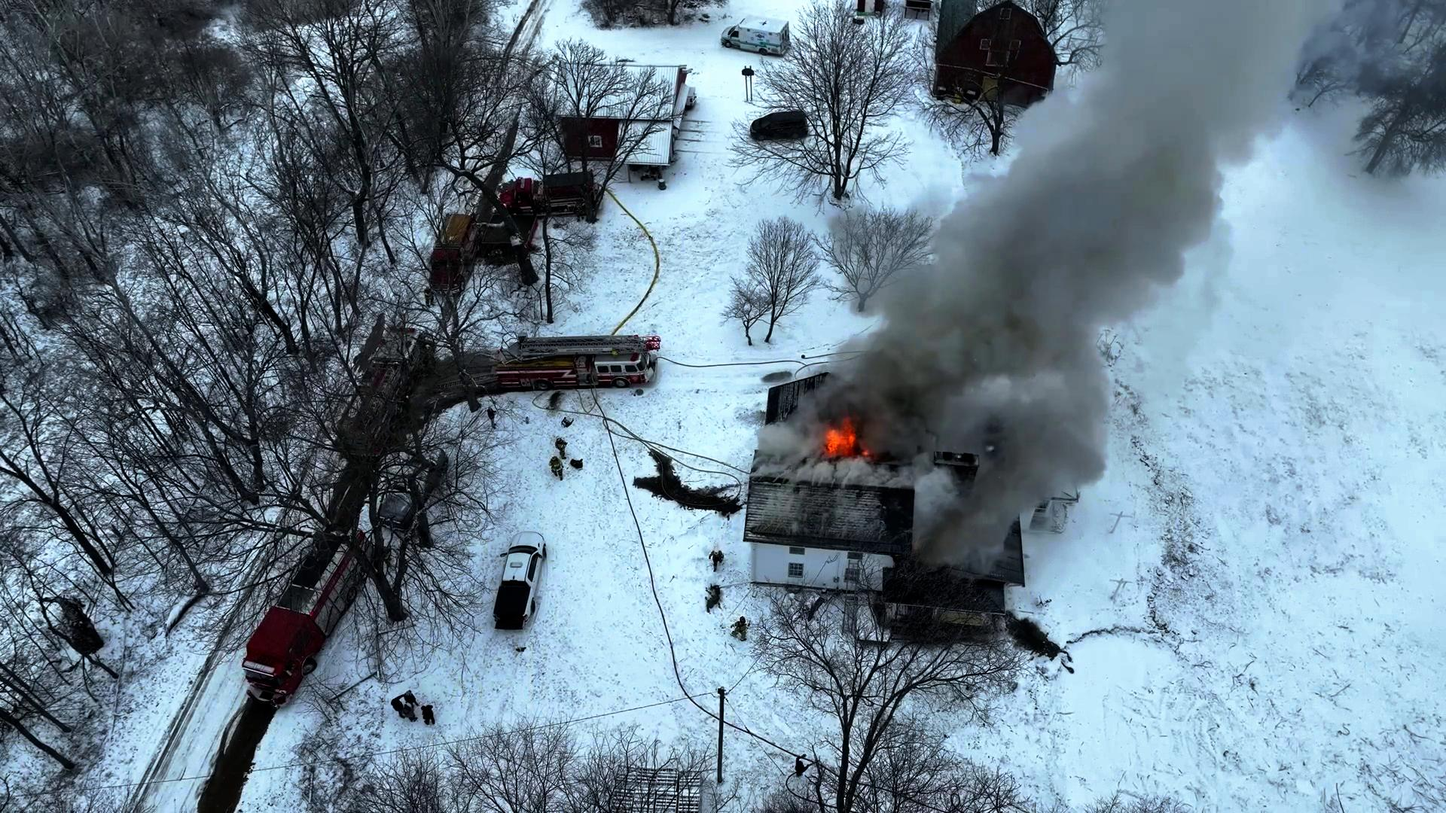fire: (810, 397, 873, 461)
smoke: (904, 239, 1102, 444)
